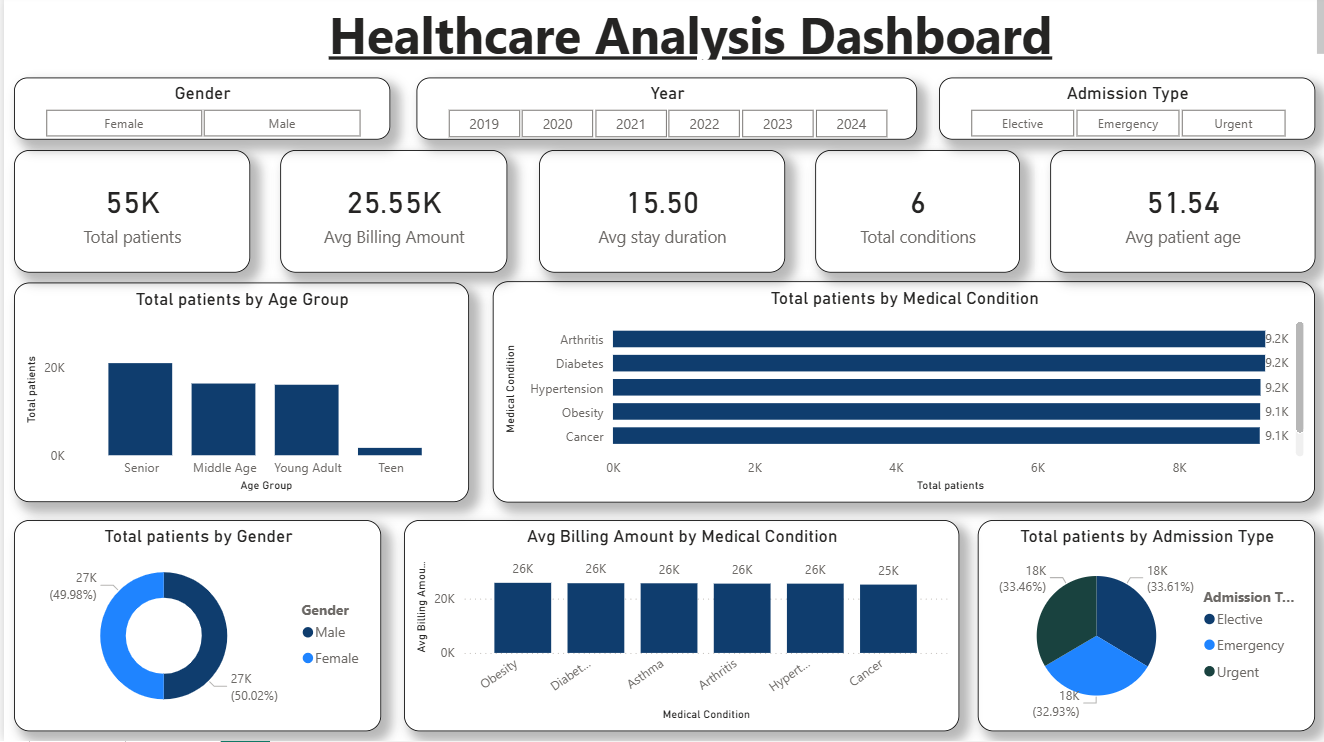

What the dashboard file says about the page in this screenshot:
{"tool":"powerbi","page":{"name":"Page 1","canvas":[1280,720],"ordinal":0},"visuals":[{"type":"columnChart","fields":{"Category":["healthcare_dataset python.Age Group"],"Y":["healthcare_dataset python.Total patients"]},"box":[9.7,277.5,439.1,212.3],"z":0},{"type":"donutChart","fields":{"Category":["healthcare_dataset python.Gender"],"Y":["healthcare_dataset python.Total patients"]},"box":[9.7,506.7,354.7,203.9],"z":1000},{"type":"barChart","fields":{"Y":["healthcare_dataset python.Total patients"],"Category":["healthcare_dataset python.Medical Condition"]},"box":[471.7,276.3,793.8,213.5],"z":2000},{"type":"pieChart","fields":{"Category":["healthcare_dataset python.Admission Type","healthcare_dataset python.Date of Admission.Variation.Date Hierarchy.Year"],"Y":["healthcare_dataset python.Total patients"]},"box":[939.8,506.7,325.7,203.9],"z":3000},{"type":"textbox","box":[0,0,1280,67.6],"z":4000},{"type":"group","id":"g1","title":"Group 2","box":[9.7,79.6,1255.9,60.3],"z":5000},{"type":"slicer","title":"Gender","fields":{"Values":["healthcare_dataset python.Gender"]},"box":[9.7,79.6,362.8,59.9],"z":6000,"group":"g1"},{"type":"card","fields":{"Values":["healthcare_dataset python.Total patients"]},"box":[9.7,149.6,228,118.2],"z":6000},{"type":"slicer","title":"Year","fields":{"Values":["healthcare_dataset python.Admission Year"]},"box":[398.4,80,482.9,59.9],"z":7000,"group":"g1"},{"type":"card","fields":{"Values":["healthcare_dataset python.Avg Billing Amount"]},"box":[266.9,149.6,219.6,118.2],"z":7000},{"type":"slicer","title":"Admission Type","fields":{"Values":["healthcare_dataset python.Admission Type"]},"box":[902.8,79.6,362.8,59.9],"z":8000,"group":"g1"},{"type":"card","fields":{"Values":["healthcare_dataset python.Avg stay duration"]},"box":[515.8,149.6,237.7,118.2],"z":8000},{"type":"card","fields":{"Values":["healthcare_dataset python.Total conditions"]},"box":[782.7,149.6,197.9,118.2],"z":9000},{"type":"card","fields":{"Values":["healthcare_dataset python.Avg patient age"]},"box":[1009.8,149.6,255.8,118.2],"z":10000},{"type":"clusteredColumnChart","fields":{"Y":["healthcare_dataset python.Avg Billing Amount"],"Category":["healthcare_dataset python.Medical Condition"]},"box":[386.1,506.7,535.7,203.9],"z":11000}]}

Visuals, with their boxes in screenshot pixels (x1, y1, x2, y2), scaled from the page's 1280x720 canvas onto the 1324x742 screenshot:
columnChart - healthcare_dataset python.Age Group x healthcare_dataset python.Total patients: 10,286,464,505
donutChart - healthcare_dataset python.Gender x healthcare_dataset python.Total patients: 10,522,377,732
barChart - healthcare_dataset python.Total patients x healthcare_dataset python.Medical Condition: 488,285,1309,505
pieChart - healthcare_dataset python.Admission Type x healthcare_dataset python.Date of Admission.Variation.Date Hierarchy.Year: 972,522,1309,732
textbox: 0,0,1323,70
"Group 2" group: 10,82,1309,144
"Gender" slicer: 10,82,385,144
card - healthcare_dataset python.Total patients: 10,154,246,276
"Year" slicer: 412,82,912,144
card - healthcare_dataset python.Avg Billing Amount: 276,154,503,276
"Admission Type" slicer: 934,82,1309,144
card - healthcare_dataset python.Avg stay duration: 534,154,779,276
card - healthcare_dataset python.Total conditions: 810,154,1014,276
card - healthcare_dataset python.Avg patient age: 1045,154,1309,276
clusteredColumnChart - healthcare_dataset python.Avg Billing Amount x healthcare_dataset python.Medical Condition: 399,522,953,732
